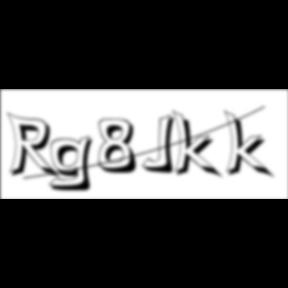8: (98, 117, 144, 176)
J: (142, 114, 182, 176)
R: (7, 112, 64, 182)
g: (49, 134, 101, 194)
k: (172, 108, 224, 181), (224, 108, 276, 181)
